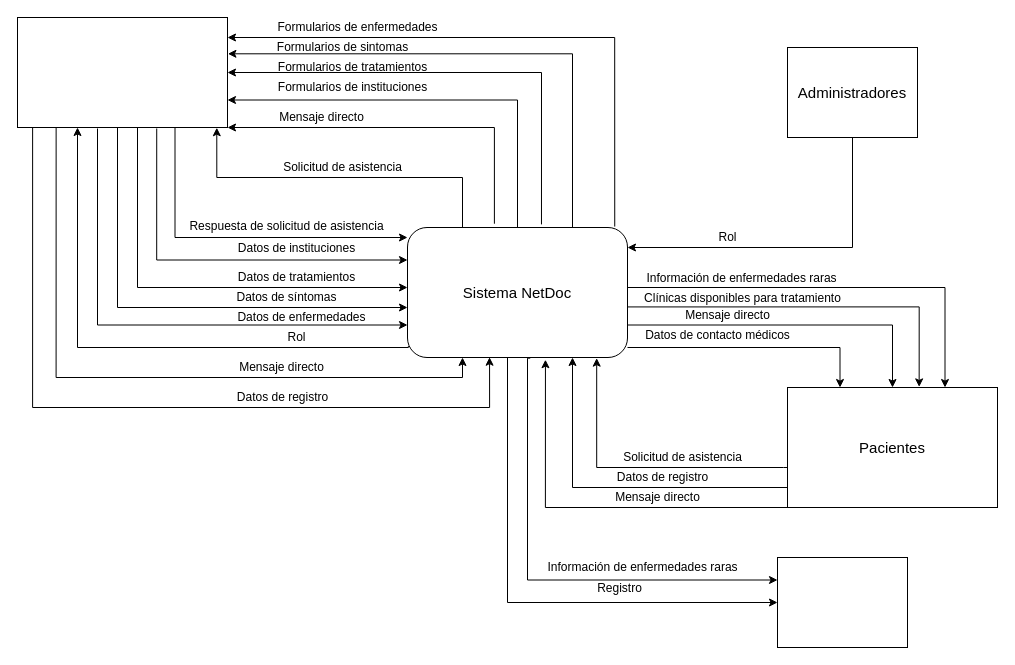
Some shapes in this 1015 by 665 pixel diagram are drawn without their labels. The centre of each missing label's shape, as x and y in pixels:
"Potenciales Usuarios" belongs at (842,602).
"Profesionales de la salud" belongs at (122,72).
